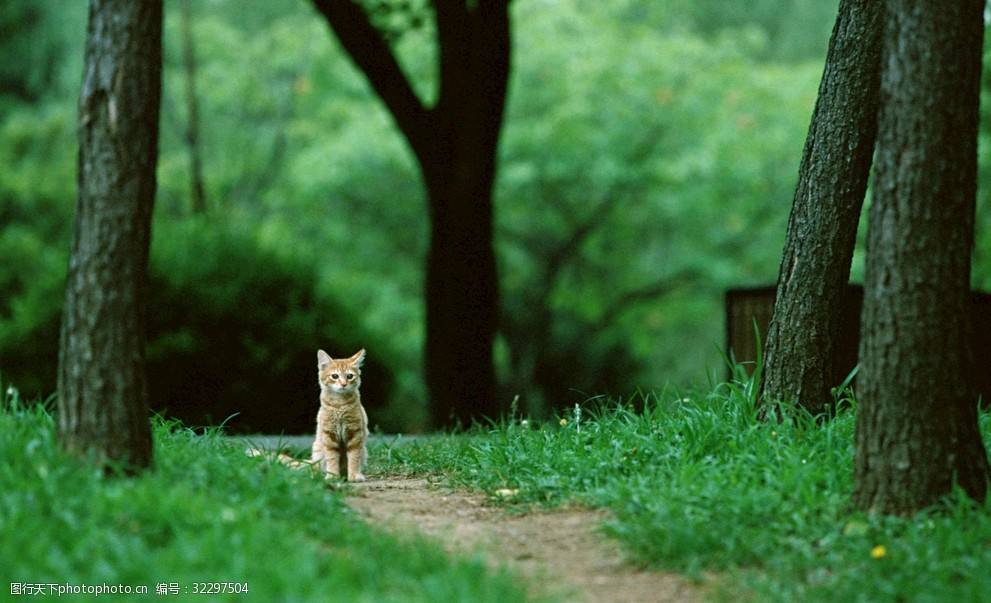cat: (310, 347, 370, 491)
